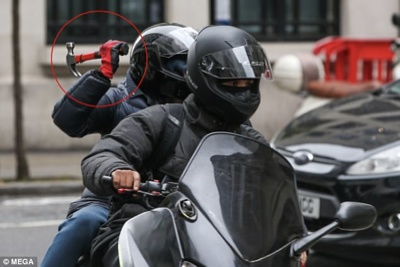helmet: (186, 23, 276, 126)
